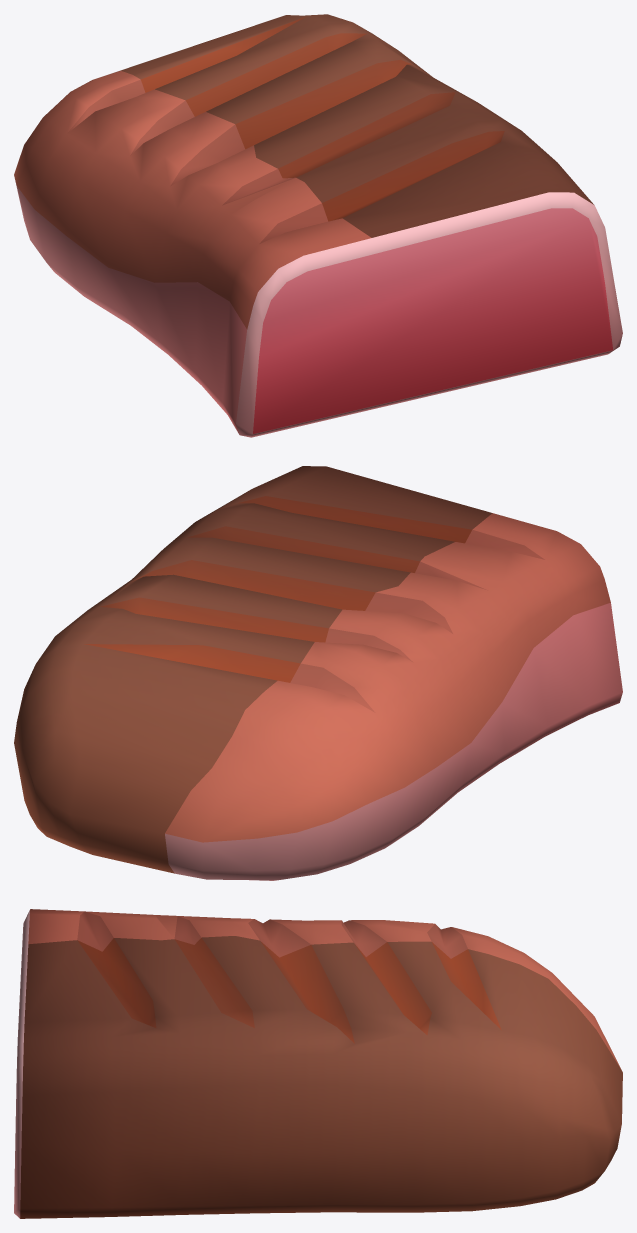
The model's file is pork_001.fbx.
The picture shows the model from 3 angles, top to bottom: view 1: azimuth 30°, elevation 25°; view 2: azimuth 150°, elevation 25°; view 3: azimuth 270°, elevation 25°; orthographic projection. The views are drawn at different scales.
Parts seen in each view (by area): view 1: pork_001; view 2: pork_001; view 3: pork_001.
Part boxes in pixels (box(x1,y1,x2,y2)): pork_001: box(14, 14, 622, 437); pork_001: box(14, 466, 622, 880); pork_001: box(14, 909, 622, 1218).
Bounding box in the file's own units: 11.52 × 16.08 × 5.29.
